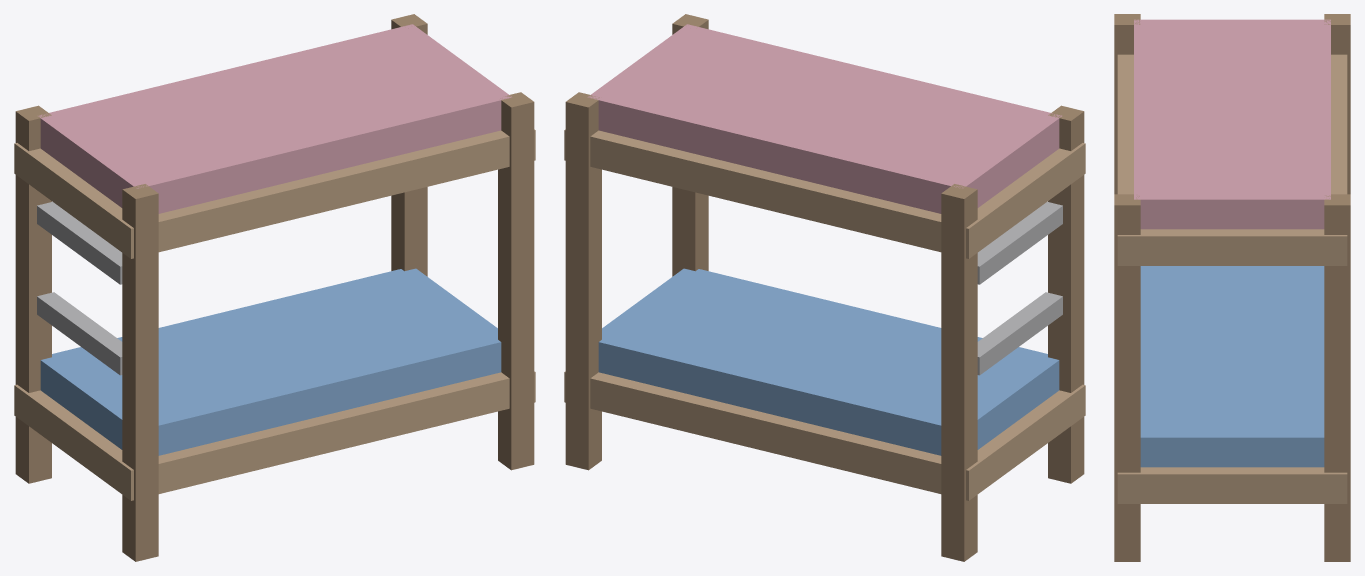
File: kid_beliche_inf.glb
3 renders of one model, left to right at view 1: azimuth 30°, elevation 25°; view 2: azimuth 150°, elevation 25°; view 3: azimuth 270°, elevation 25°, orthographic.
Parts seen in each view (by area): view 1: KID_BELICHE_INF_v01; view 2: KID_BELICHE_INF_v01; view 3: KID_BELICHE_INF_v01.
Boxes of the visible parts, bbox=[...] form: KID_BELICHE_INF_v01: bbox=[14, 14, 535, 561]; KID_BELICHE_INF_v01: bbox=[564, 14, 1085, 561]; KID_BELICHE_INF_v01: bbox=[1114, 14, 1350, 561].
Size of the model in its own units: 1.4 by 1.2 by 0.72.
